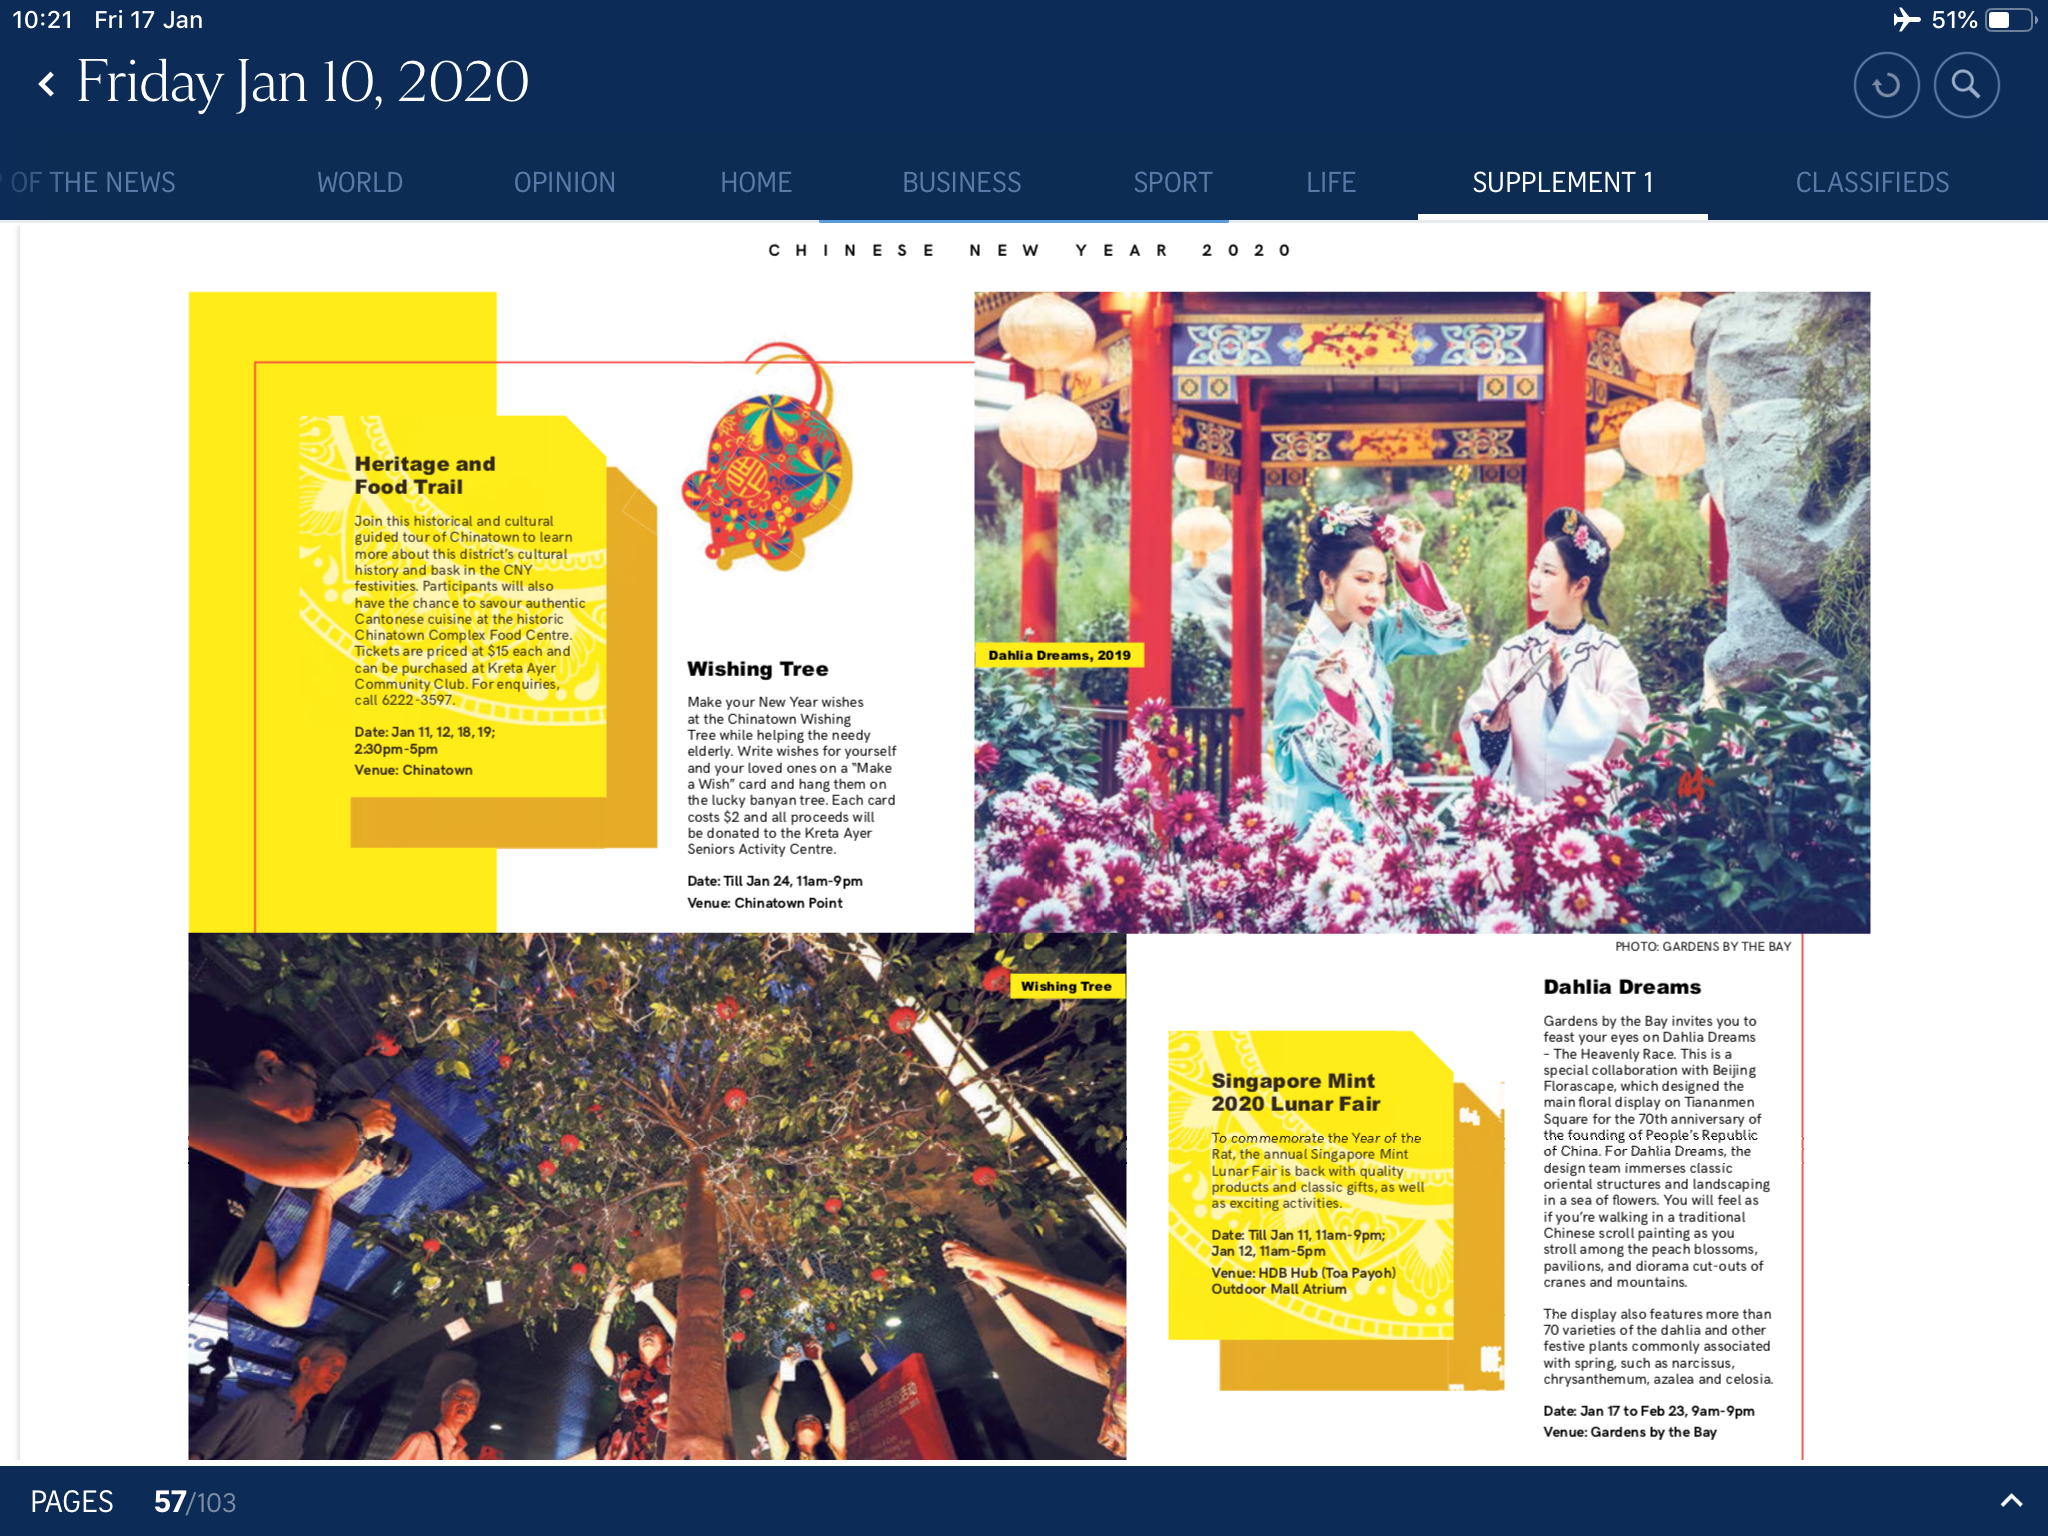Headline: (1213, 1071, 1384, 1113), (355, 453, 498, 497), (687, 657, 832, 681), (1543, 979, 1708, 999)
Illustration: (1614, 939, 1793, 954)
Image: (976, 294, 1871, 933), (189, 934, 1126, 1460)
Text: (1543, 1015, 1777, 1389), (353, 513, 589, 707), (687, 694, 900, 857), (1213, 1131, 1426, 1210), (1209, 1226, 1398, 1297), (1542, 1404, 1758, 1446), (353, 724, 498, 778), (687, 871, 866, 913)
